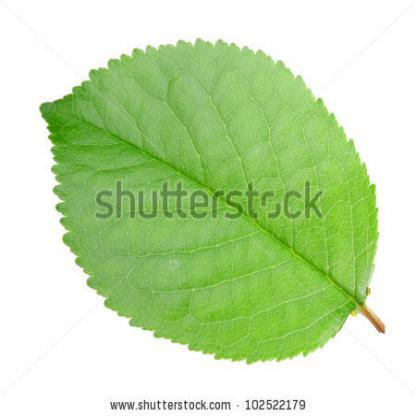Apple leaf: (24, 36, 393, 372)
